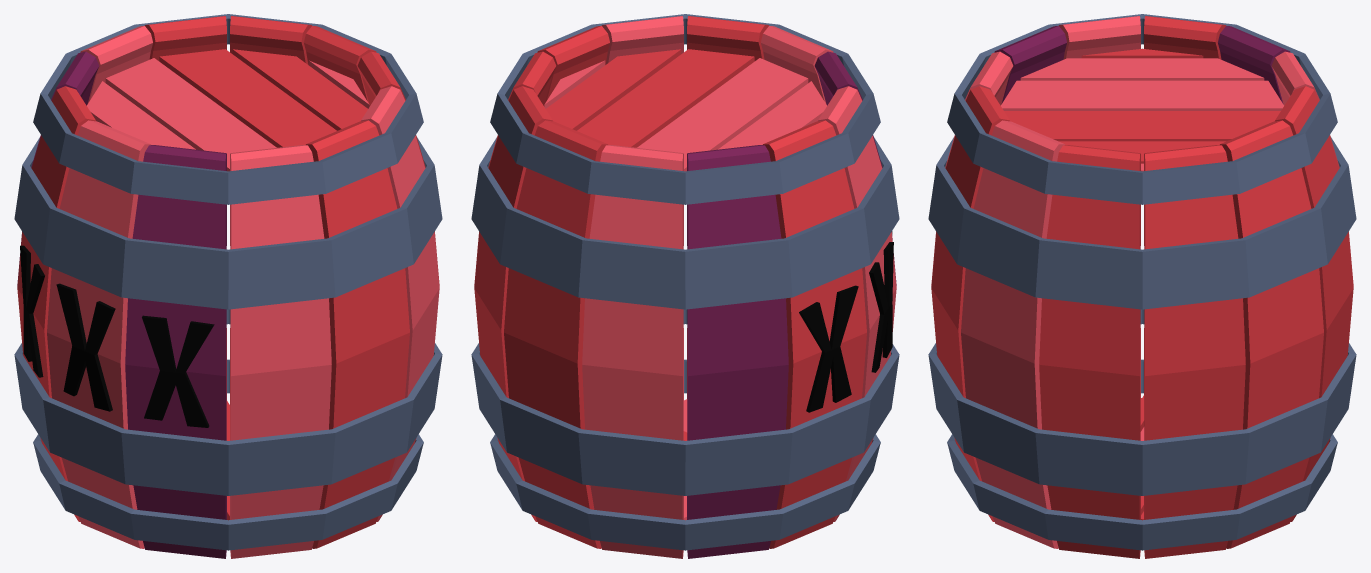
The model's file is Barrel 2_4.fbx.
3 views of the same model, side by side, from view 1: azimuth 30°, elevation 25°; view 2: azimuth 150°, elevation 25°; view 3: azimuth 270°, elevation 25° (orthographic).
Parts seen in each view (by area): view 1: Barrel 2_4; view 2: Barrel 2_4; view 3: Barrel 2_4.
Boxes of the visible parts, bbox=[...] form: Barrel 2_4: bbox=[14, 14, 442, 558]; Barrel 2_4: bbox=[471, 14, 899, 558]; Barrel 2_4: bbox=[928, 14, 1356, 558].
Bounding box in the file's own units: 85.59 × 89.17 × 85.59.
